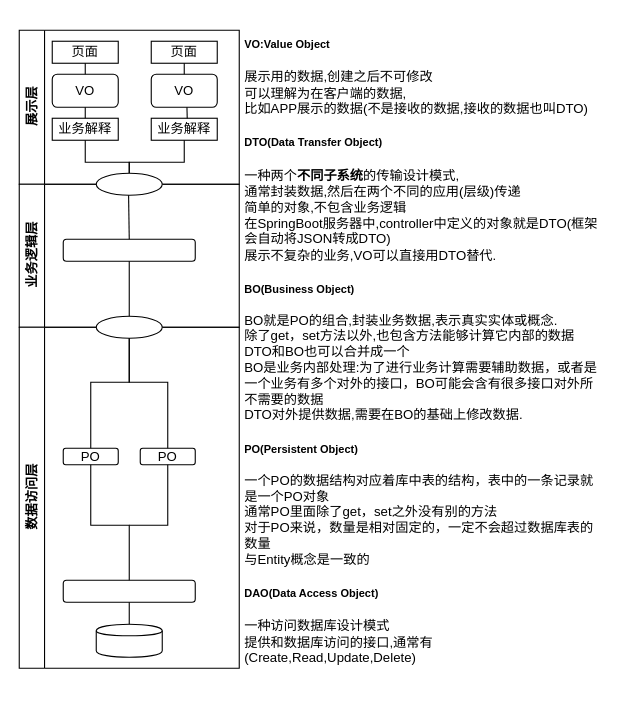
Some shapes in this 622 by 708 pixel diagram are drawn without their labels. The centre of each missing label's shape, as x and y in pixels:
"BO" goes at (x=128, y=326).
"DAO" goes at (x=128, y=590).
"DataBase" goes at (x=128, y=640).
"DTO" goes at (x=128, y=183).
"业务处理" goes at (x=128, y=249).
